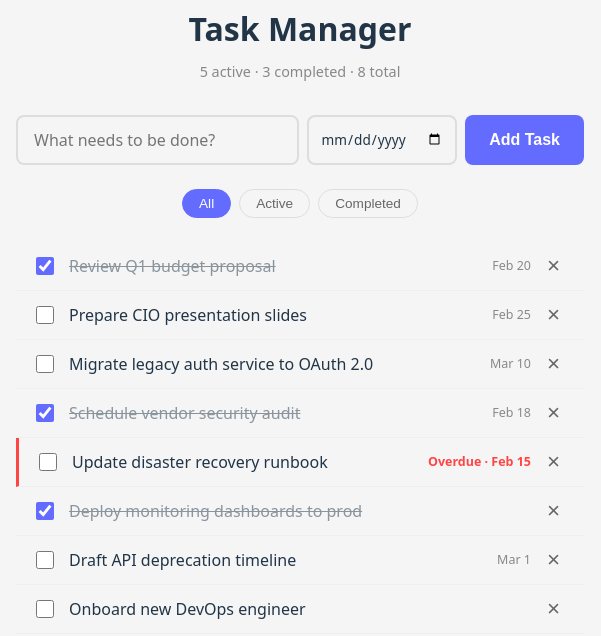
Test: Task Manager — End to End › filters tasks by completed status
Click the button "Completed" at (368, 204), box left=318, top=189, right=418, bottom=218
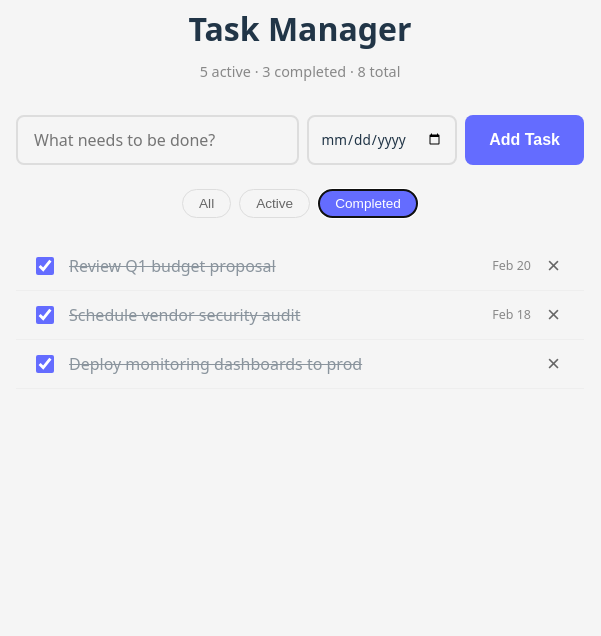
Check: the text "Review Q1 budget proposal" is shown, box left=69, top=254, right=276, bottom=278
Check: the text "Prepare CIO presentation slides" is gone
